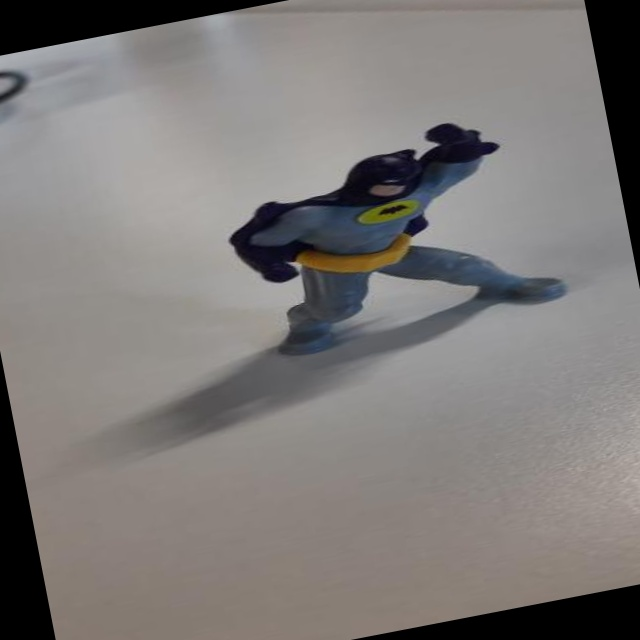Batman: (139, 91, 581, 424)
